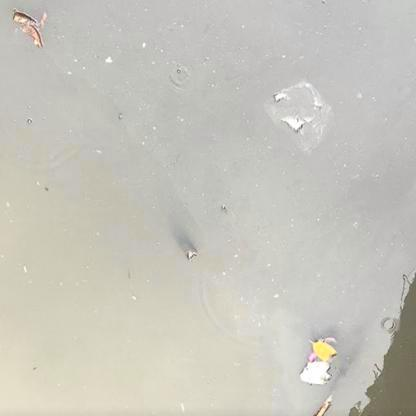Trash: (10, 10, 46, 51), (298, 359, 335, 386), (310, 331, 339, 359), (183, 245, 199, 266)
